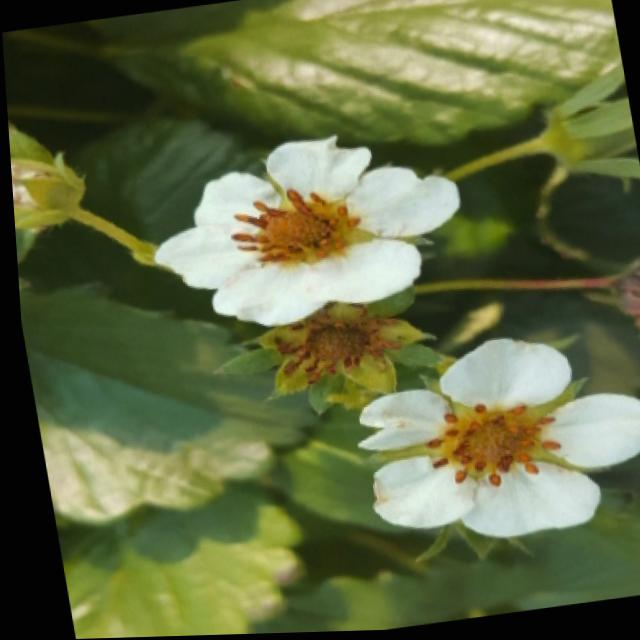Blossom Blight: (413, 401, 561, 503), (224, 187, 362, 278), (267, 314, 373, 392)
